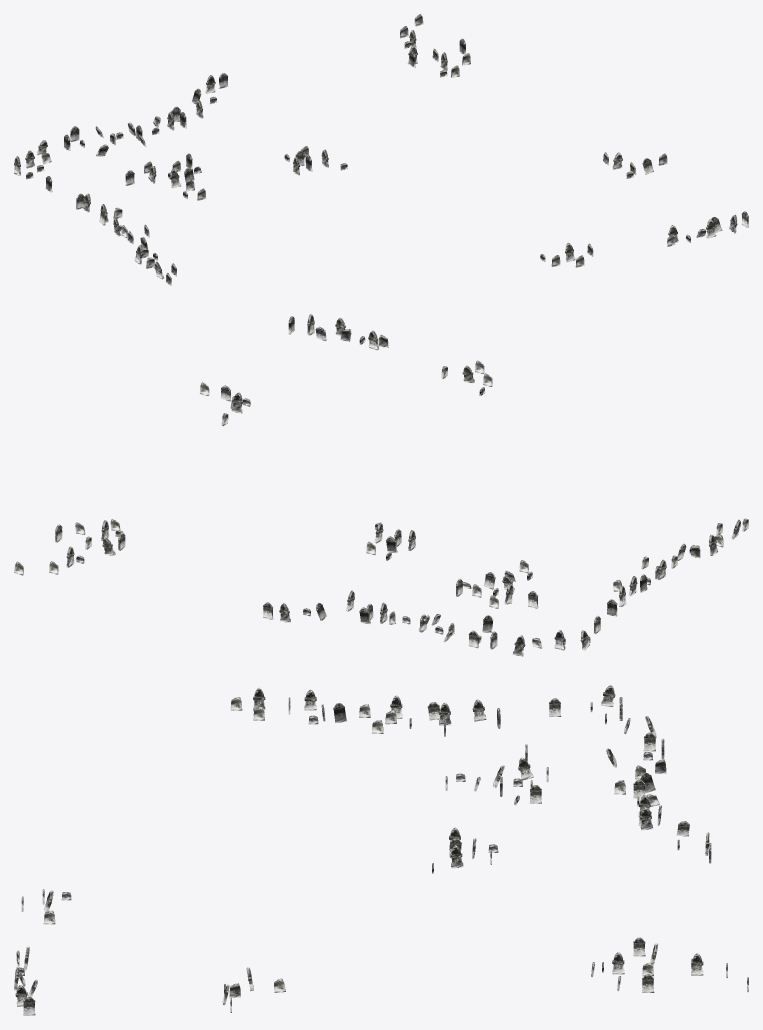
3 renders of one model, top to bottom at view 1: azimuth 30°, elevation 25°; view 2: azimuth 150°, elevation 25°; view 3: azimuth 270°, elevation 25°, orthographic. The views are drawn at different scales.
Visible parts, largest first — view 1: mesh0; view 2: mesh0; view 3: mesh0.
Part boxes in pixels (left/top/right/bottom): mesh0: left=14, top=14, right=748, bottom=285; mesh0: left=14, top=314, right=748, bottom=656; mesh0: left=14, top=685, right=748, bottom=1015.
Size of the model in its own units: 37.91 by 1.88 by 38.44.
